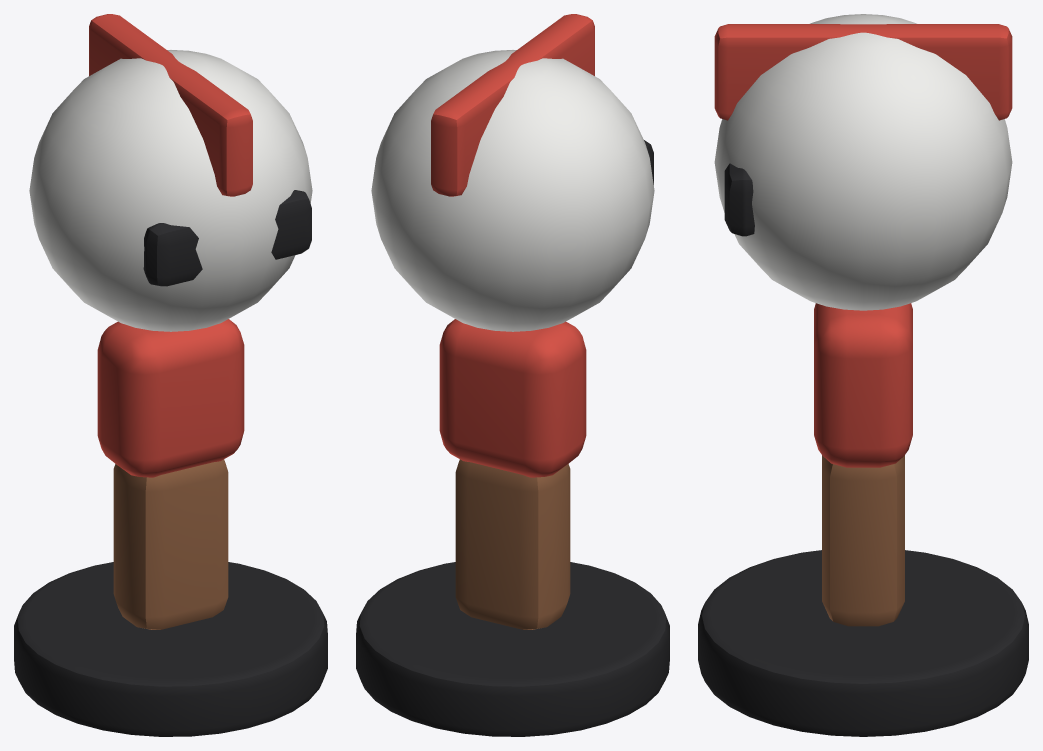
Rendered from trinket_bobblehead.glb.
3 renders of one model, left to right at view 1: azimuth 30°, elevation 25°; view 2: azimuth 150°, elevation 25°; view 3: azimuth 270°, elevation 25°, orthographic. The views are drawn at different scales.
Parts seen in each view (by area): view 1: SM_trinket_bobblehead; view 2: SM_trinket_bobblehead; view 3: SM_trinket_bobblehead.
Boxes of the visible parts, <box> form: SM_trinket_bobblehead: <box>14,14,327,736</box>; SM_trinket_bobblehead: <box>356,14,669,736</box>; SM_trinket_bobblehead: <box>698,14,1028,736</box>.
Size of the model in its own units: 0.1 by 0.215 by 0.1.
